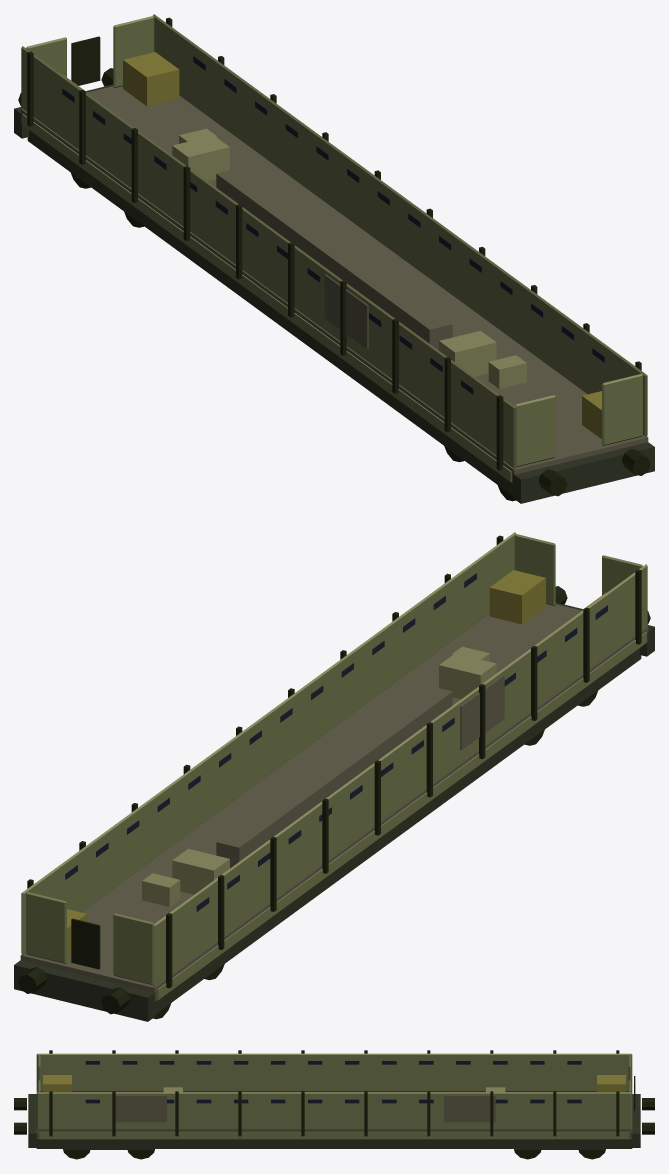
Rendered from SM_vagon_tropa_r2_LOD0.fbx.
3 views of the same model, one above another, from view 1: azimuth 30°, elevation 25°; view 2: azimuth 150°, elevation 25°; view 3: azimuth 270°, elevation 25° (orthographic). The views are drawn at different scales.
Parts seen in each view (by area): view 1: SM_vagon_tropa_r2_LOD0; view 2: SM_vagon_tropa_r2_LOD0; view 3: SM_vagon_tropa_r2_LOD0.
Part boxes in pixels (x1,y1,x2,y2): SM_vagon_tropa_r2_LOD0: (14,14,654,503); SM_vagon_tropa_r2_LOD0: (14,532,654,1021); SM_vagon_tropa_r2_LOD0: (14,1050,654,1159).
Bounding box in the file's own units: 3.08 × 2.6 × 19.9.
